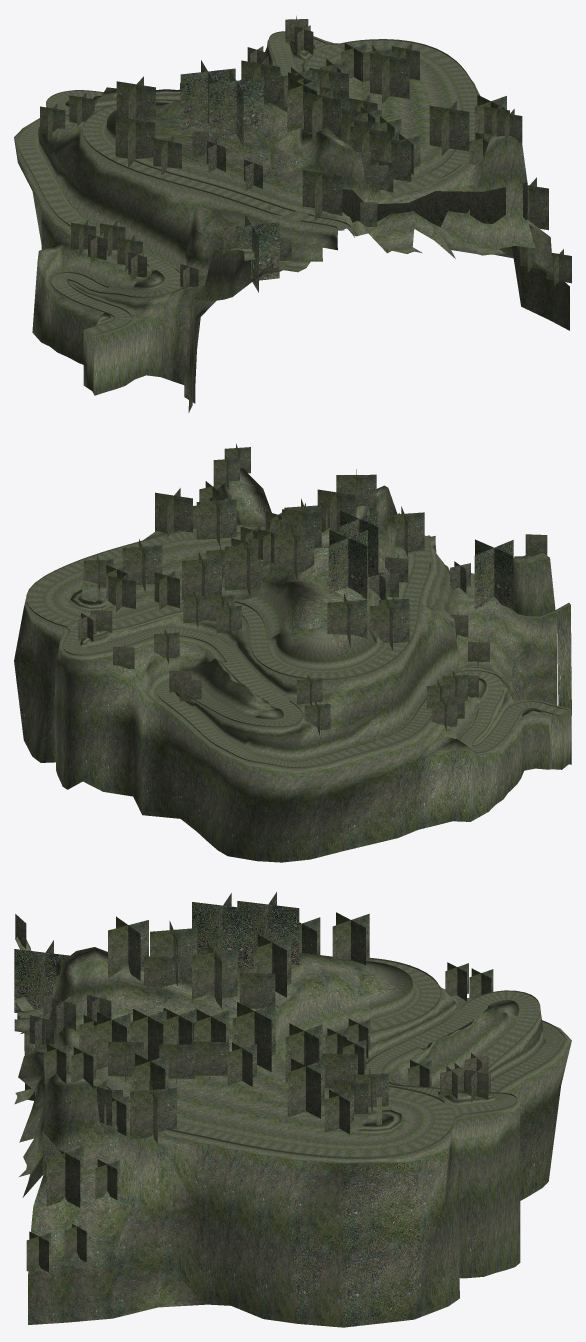
Rendered from fantasy5.glb.
The picture shows the model from 3 angles, top to bottom: view 1: azimuth 30°, elevation 25°; view 2: azimuth 150°, elevation 25°; view 3: azimuth 270°, elevation 25°; orthographic projection. The views are drawn at different scales.
Visible parts, largest first — view 1: fantasy5; view 2: fantasy5; view 3: fantasy5.
Part boxes in pixels (x1,y1,x2,y2): fantasy5: (14, 16, 571, 412); fantasy5: (14, 443, 571, 862); fantasy5: (14, 892, 571, 1327).
Bounding box in the file's own units: 323 × 171 × 298.
Materials: 1 (1 with a texture image).
